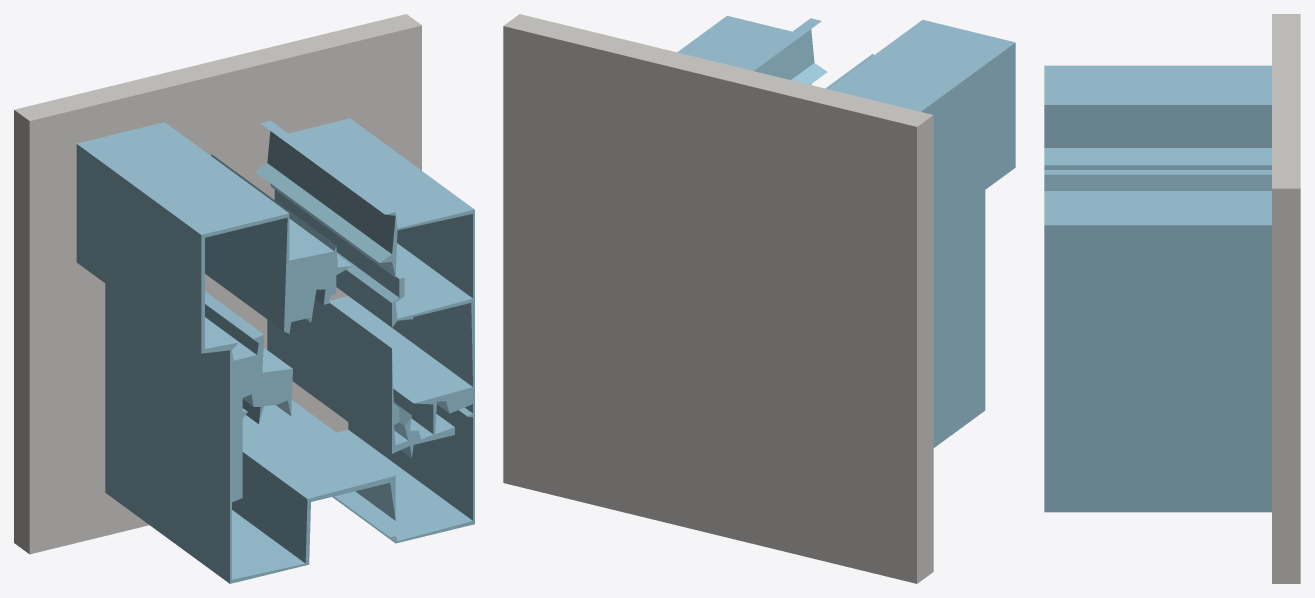
File: download (1).glb
3 renders of one model, left to right at view 1: azimuth 30°, elevation 25°; view 2: azimuth 150°, elevation 25°; view 3: azimuth 270°, elevation 25°, orthographic. The views are drawn at different scales.
Visible parts, largest first — view 1: world; view 2: world; view 3: world.
Part boxes in pixels (box(x1,y1,x2,y2)): world: box(14, 14, 474, 583); world: box(503, 14, 1015, 583); world: box(1044, 14, 1300, 583).
Bounding box in the file's own units: 2.18 × 2.3 × 1.35.
